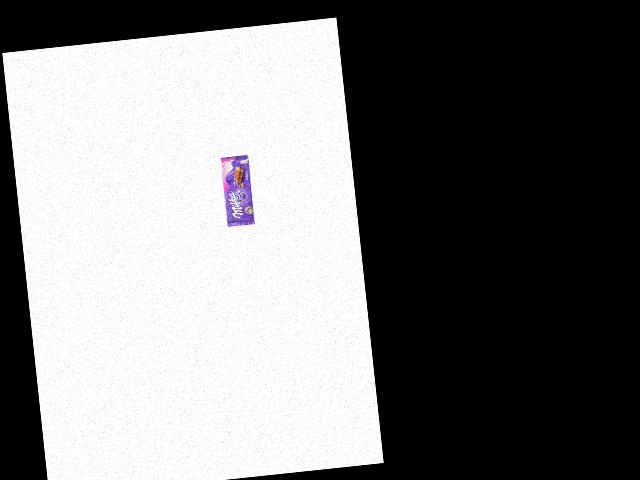chocolate: (220, 154, 256, 227)
